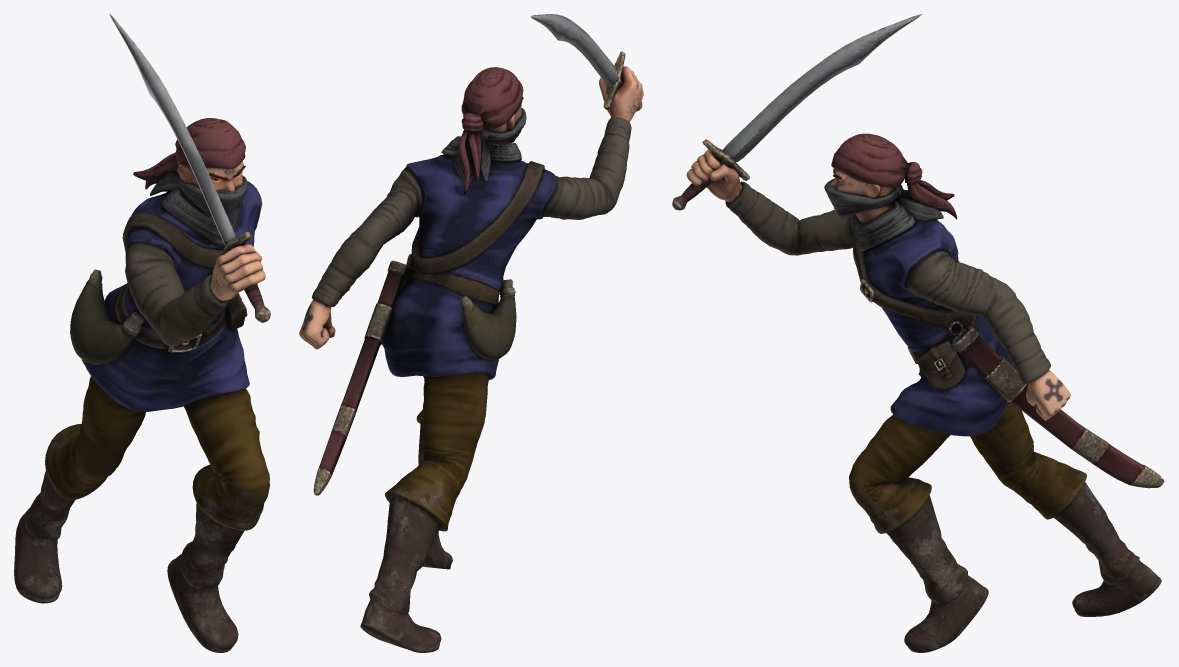
File: MZ4250 - Bandit Male.glb
3 renders of one model, left to right at view 1: azimuth 30°, elevation 25°; view 2: azimuth 150°, elevation 25°; view 3: azimuth 270°, elevation 25°, orthographic. The views are drawn at different scales.
Visible parts, largest first — view 1: Bandit Male.001; view 2: Bandit Male.001; view 3: Bandit Male.001.
Part boxes in pixels (<box>): Bandit Male.001: <box>14,14,270,652</box>; Bandit Male.001: <box>299,14,643,652</box>; Bandit Male.001: <box>672,14,1164,652</box>.
Bounding box in the file's own units: 0.3468 × 1.02 × 0.7727.
1 material, 1 textured.
